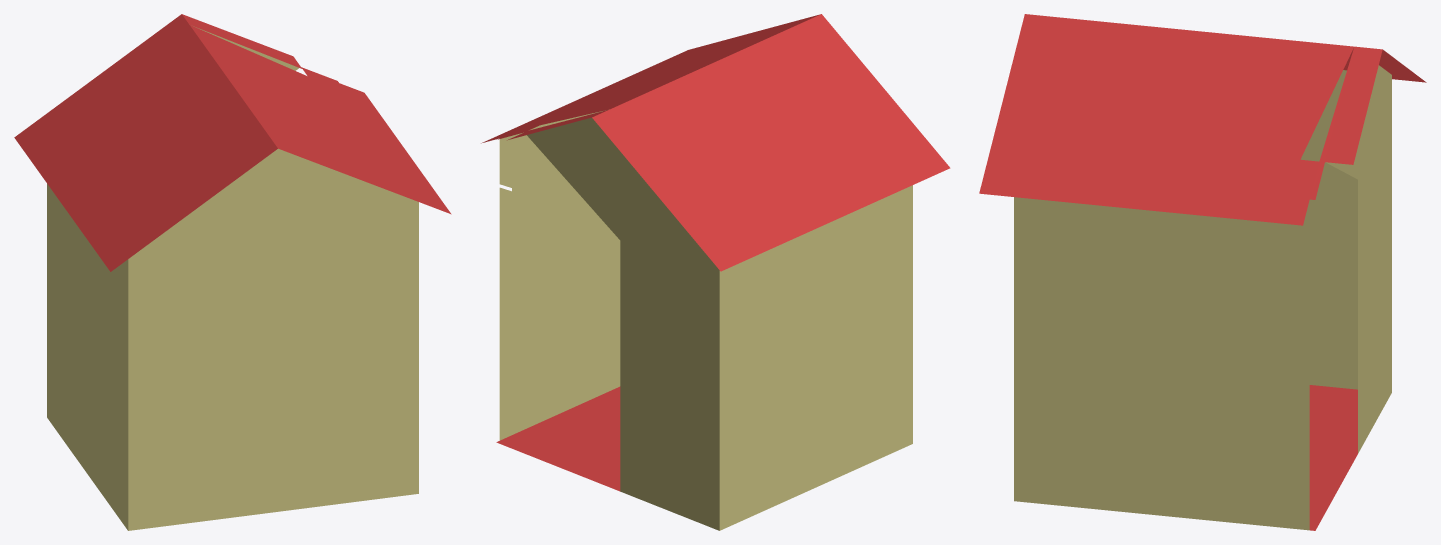
3 renders of one model, left to right at view 1: azimuth 30°, elevation 25°; view 2: azimuth 150°, elevation 25°; view 3: azimuth 270°, elevation 25°, orthographic. The views are drawn at different scales.
Size of the model in its own units: 11.83 by 11.54 by 11.77.
